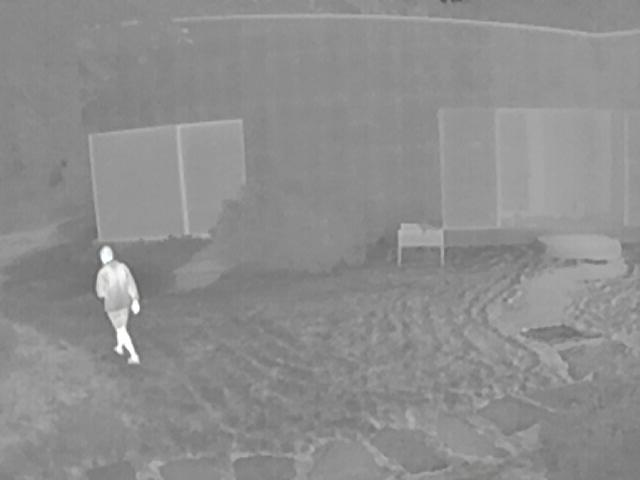person: (96, 247, 141, 365)
